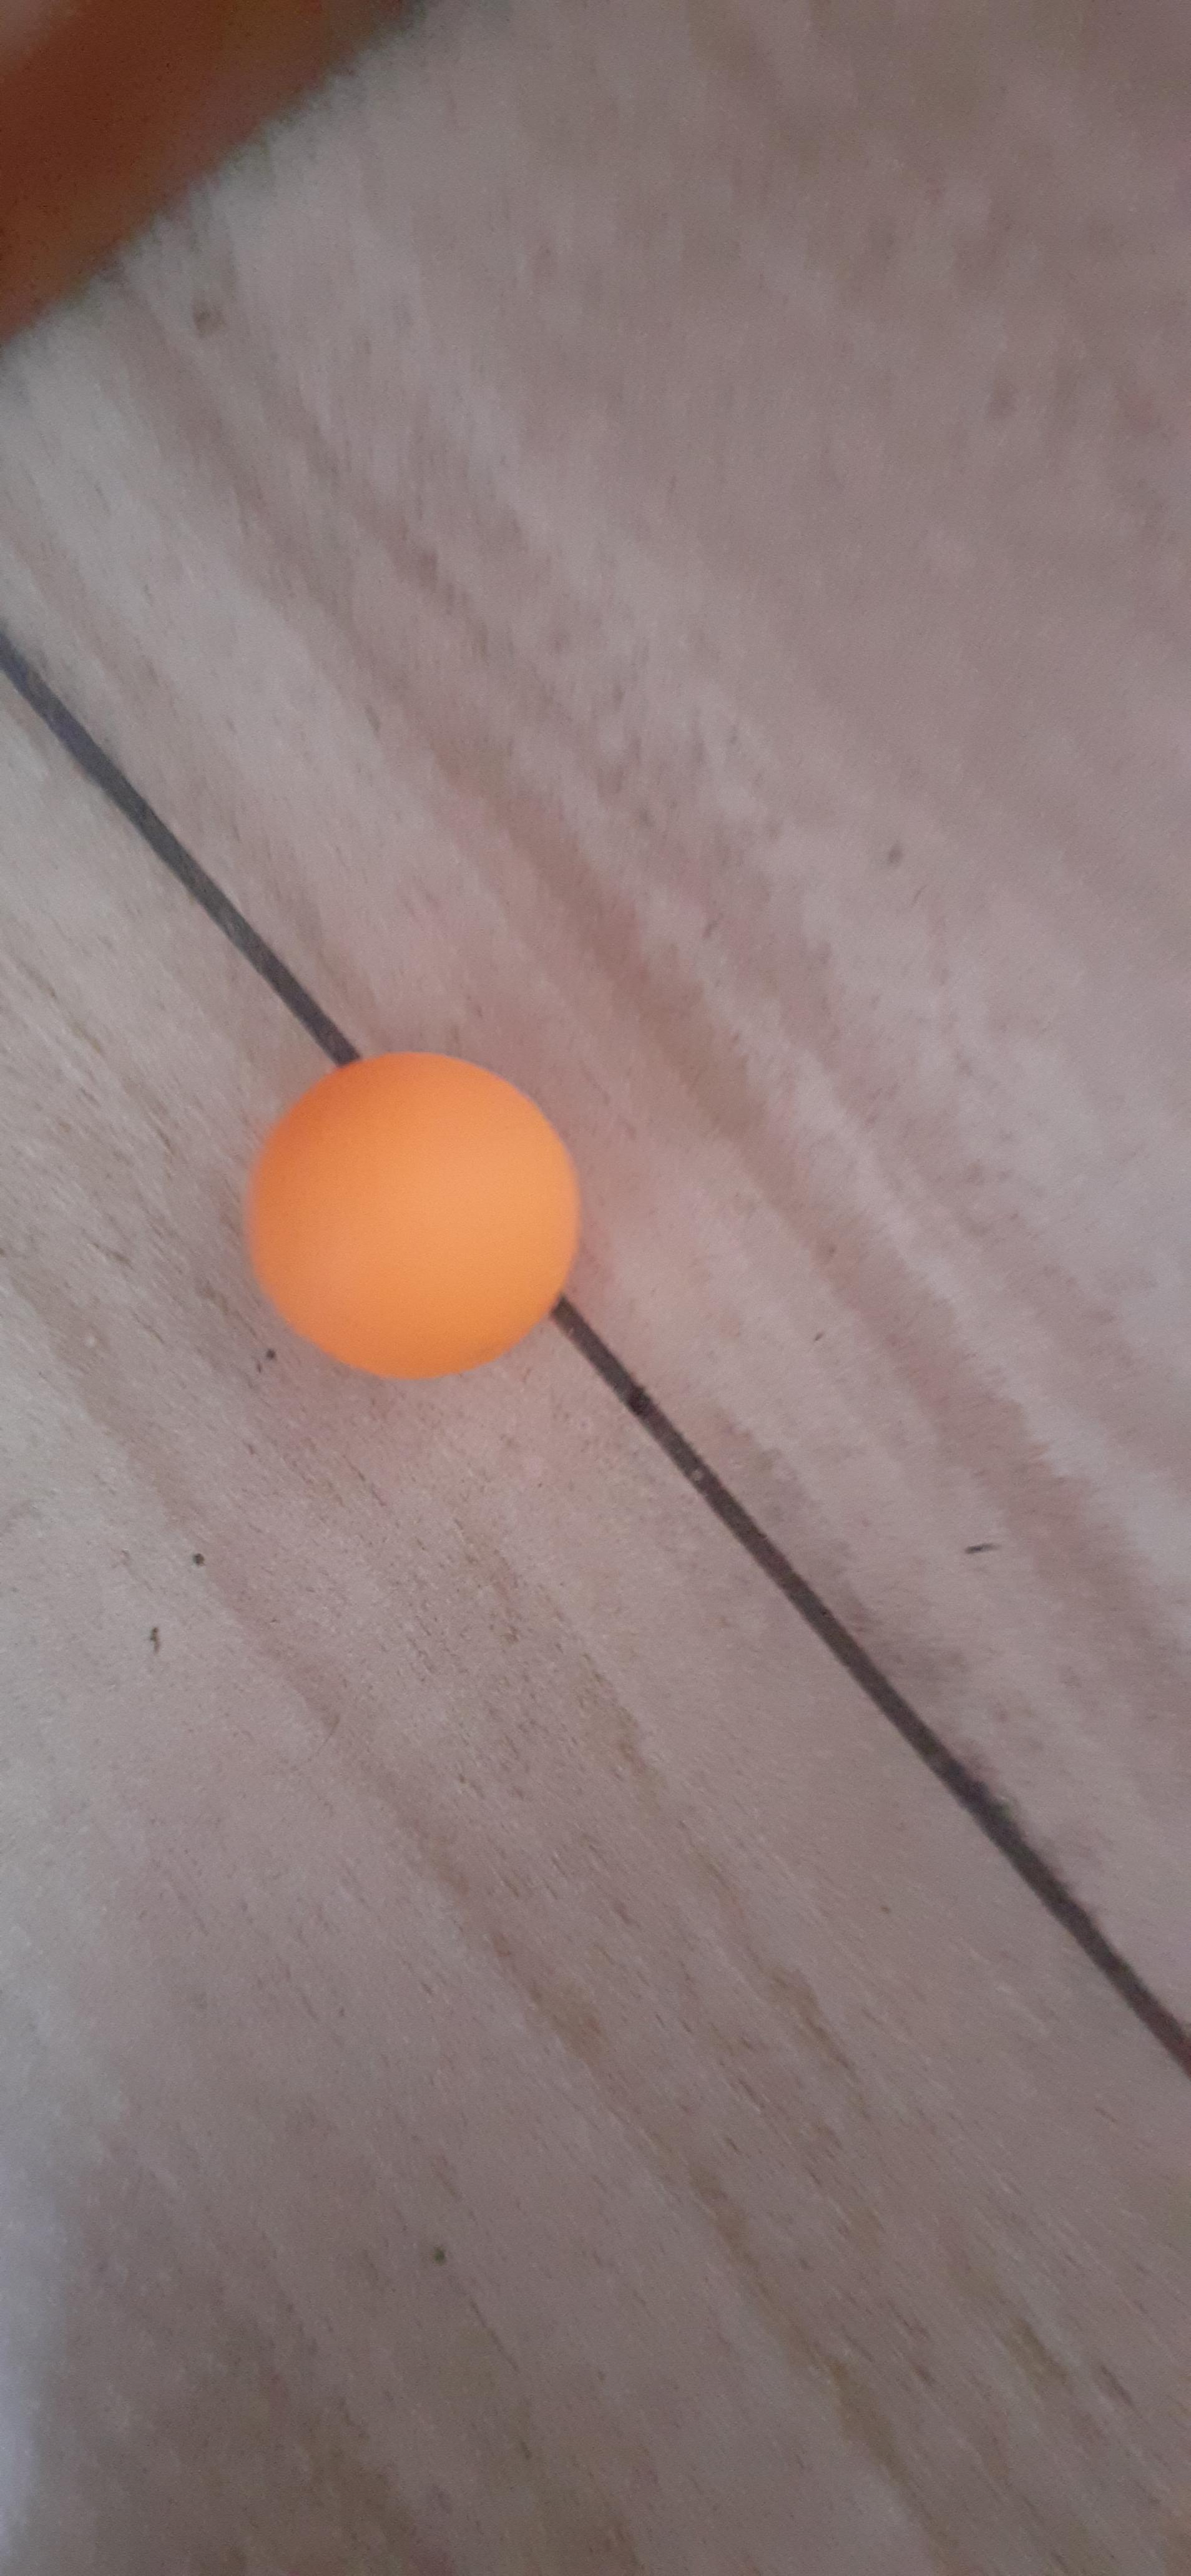orange: (233, 1050, 580, 1391)
